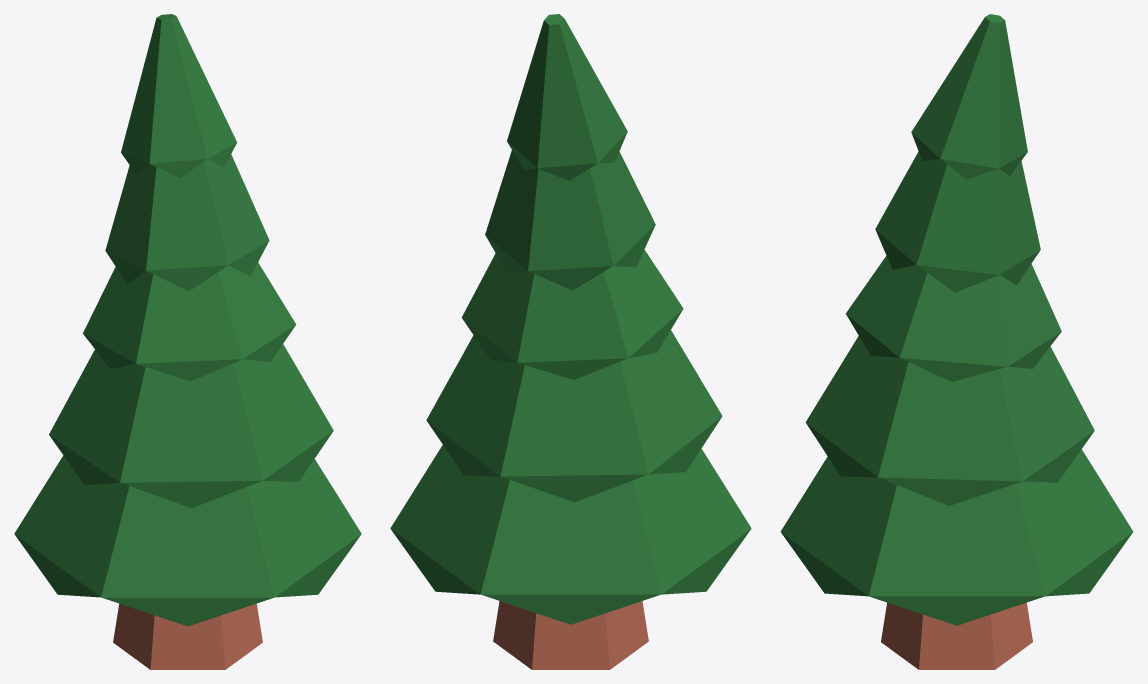
File: tree_pineRoundD.glb
The picture shows the model from 3 angles, left to right: view 1: azimuth 30°, elevation 25°; view 2: azimuth 150°, elevation 25°; view 3: azimuth 270°, elevation 25°; orthographic projection. The views are drawn at different scales.
Visible parts, largest first — view 1: tree_pineRoundD; view 2: tree_pineRoundD; view 3: tree_pineRoundD.
Part boxes in pixels (box(x1,y1,x2,y2)): tree_pineRoundD: box(14, 14, 361, 669); tree_pineRoundD: box(390, 14, 751, 669); tree_pineRoundD: box(780, 14, 1133, 669).
Size of the model in its own units: 0.4804 by 1.08 by 0.5547.
